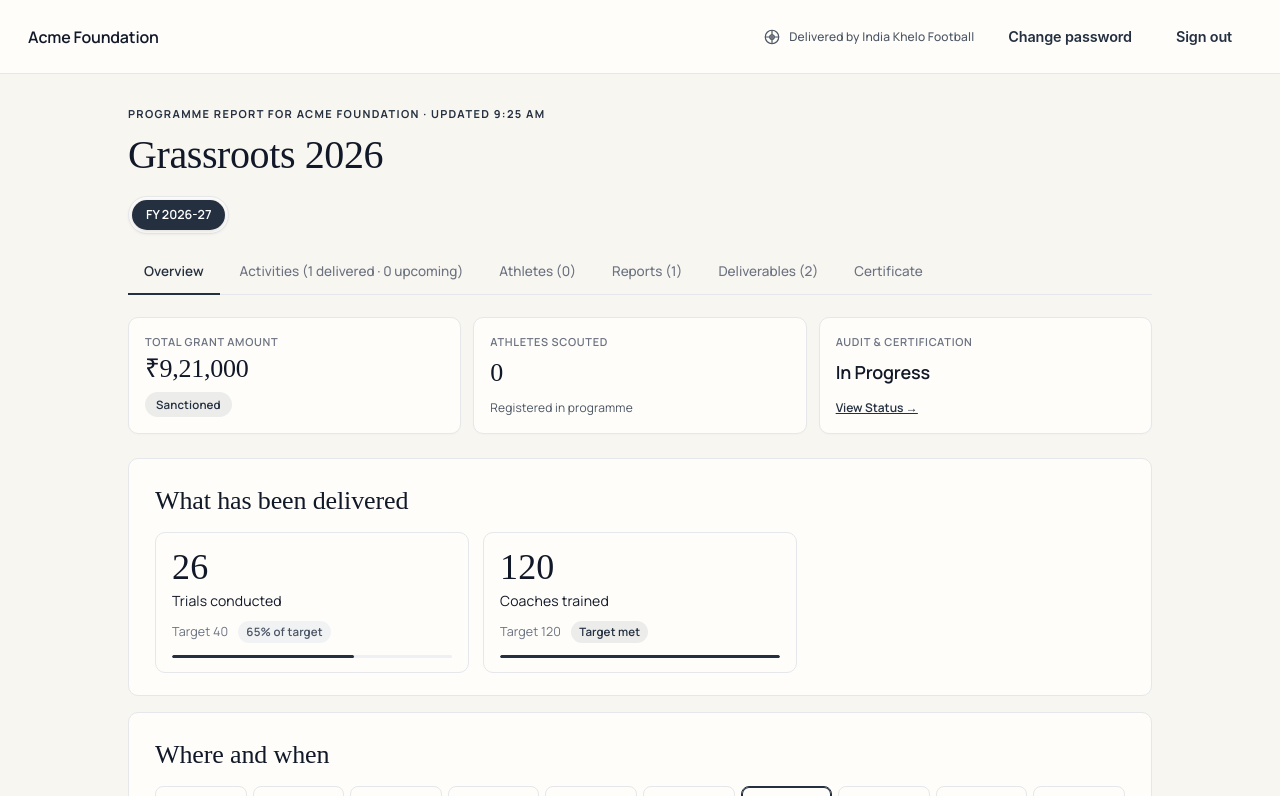
the tabs actually switch — the bar is our own markup now, not MUI's
Expected: the heading "What has been delivered" is shown, [155,486,408,515]
Click the tab "Activities (1 delivered · 0 upcoming)".
click(351, 272)  # box [224,250,479,295]
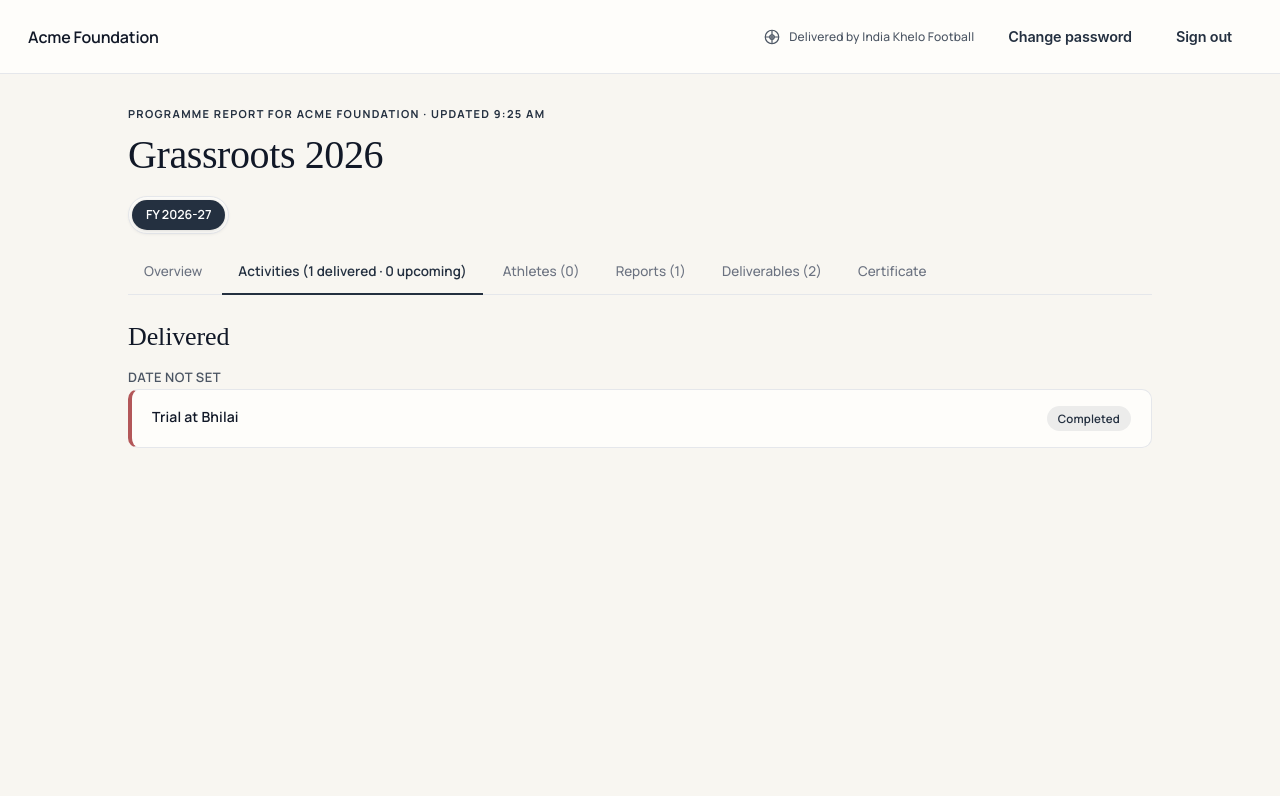
Expected: the text "Trial at Bhilai" is shown, [152,407,239,426]
Expected: the tab "Activities (1 delivered · 0 upcoming)" is selected, [222,250,483,294]
Expected: the tab "Overview" is not selected, [128,250,218,294]
Click the tab "Reports (1)".
click(651, 272)  # box [600,250,702,295]
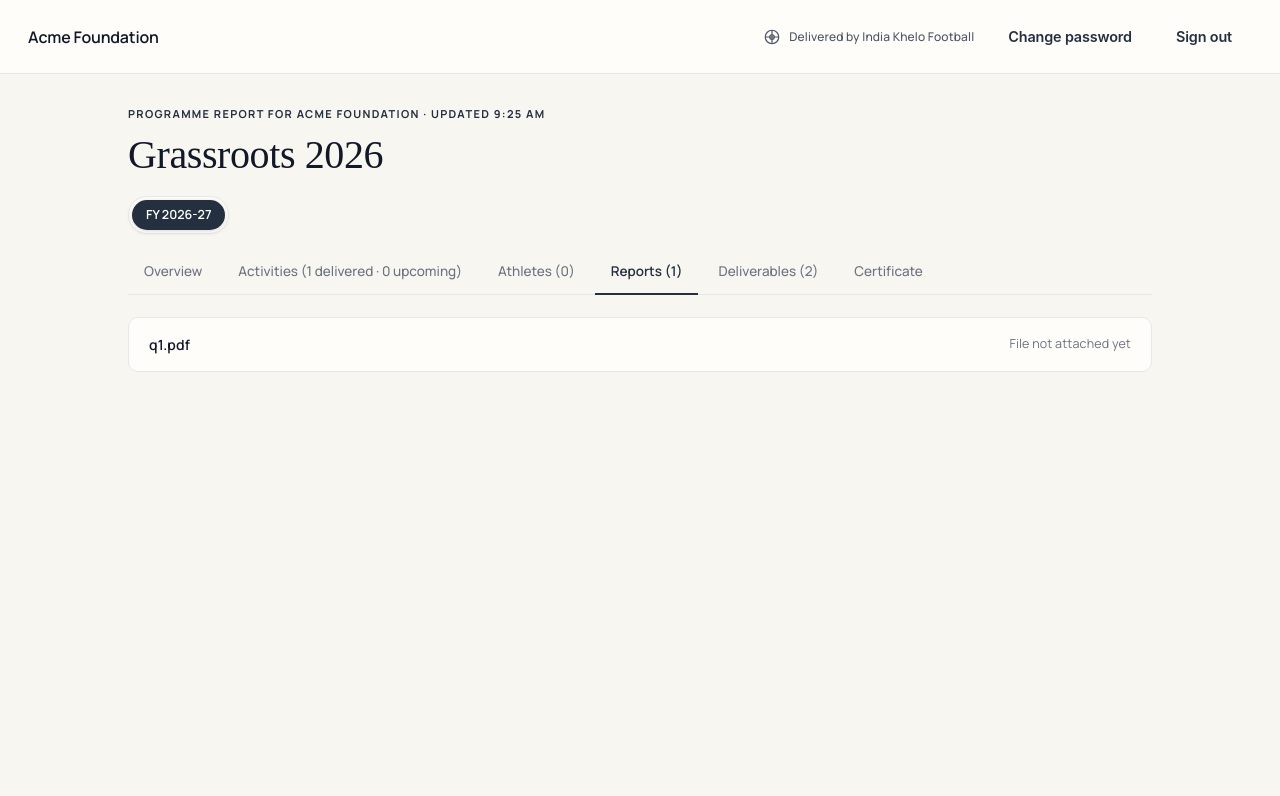
Expected: the text "q1.pdf" is shown, [149,334,190,354]
